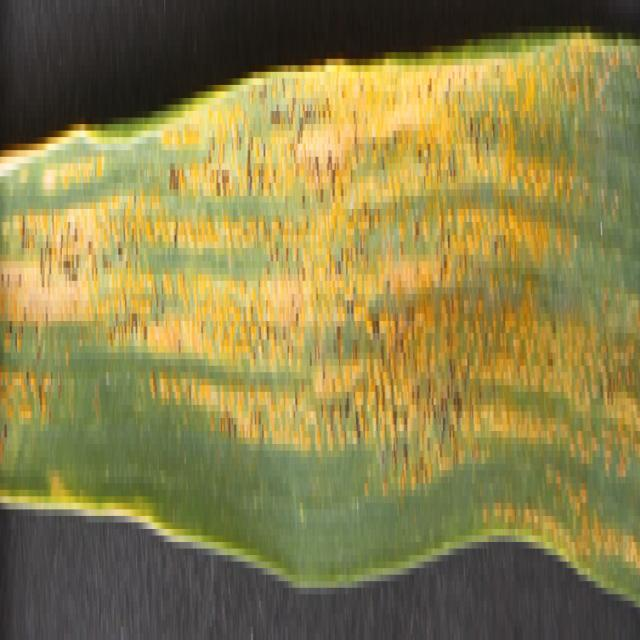leaf rust: (1, 19, 639, 600)
